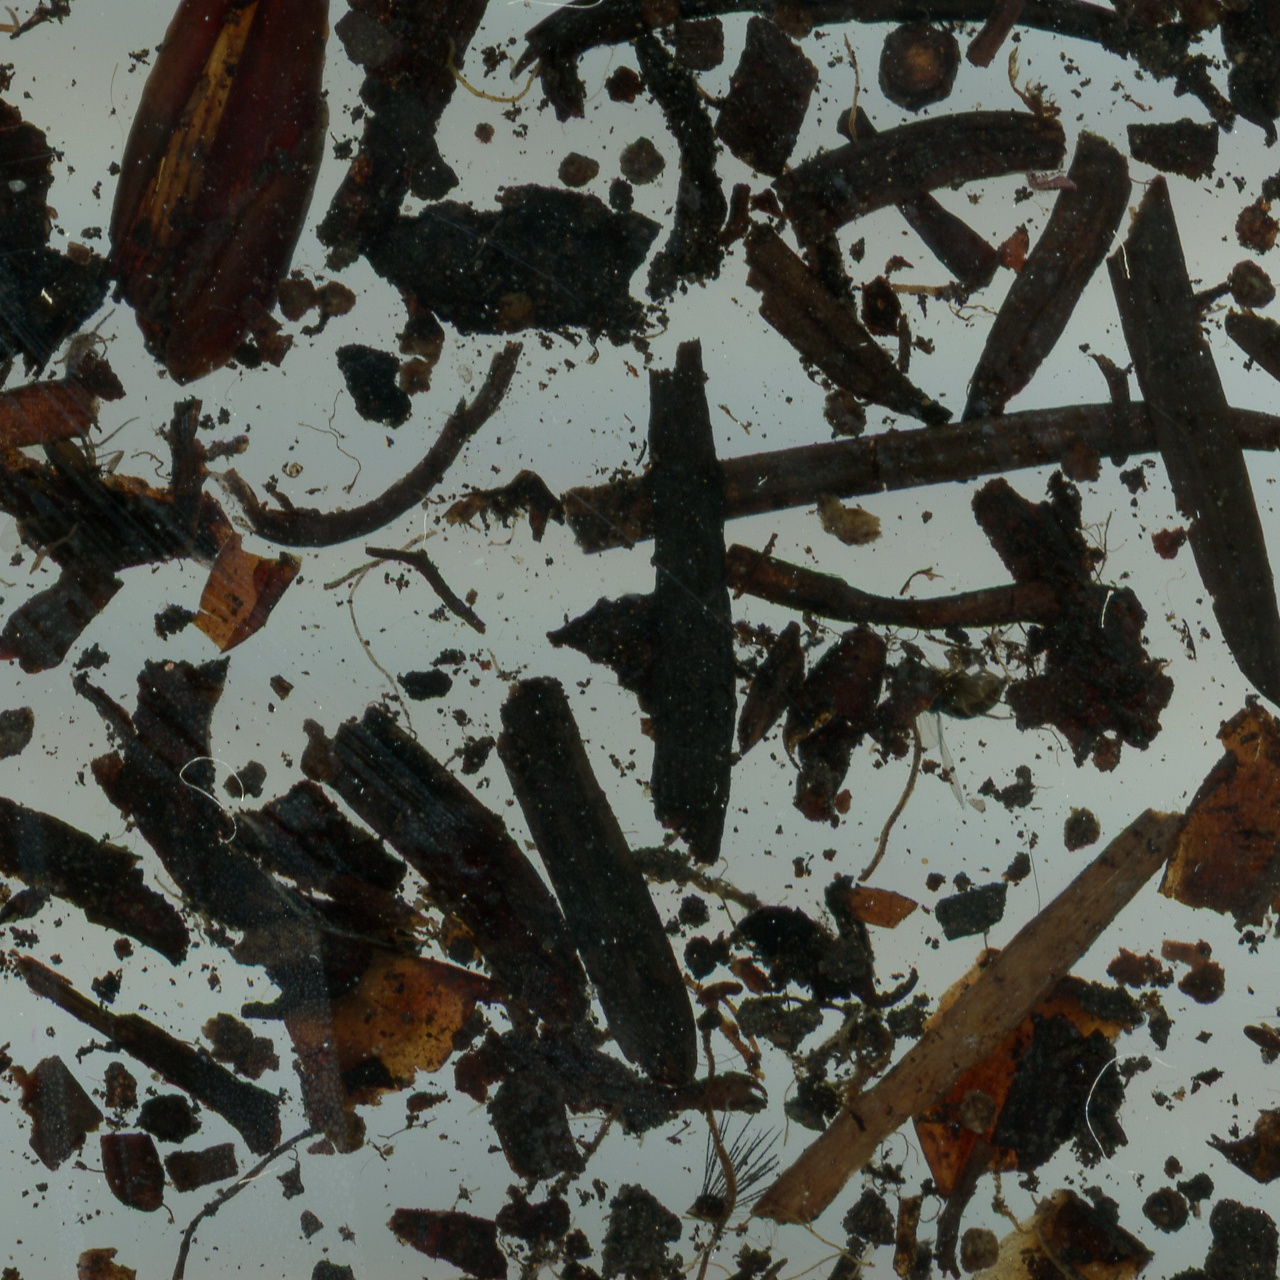arthropod: (893, 648, 1016, 811), (64, 307, 122, 374), (1021, 168, 1077, 193)
